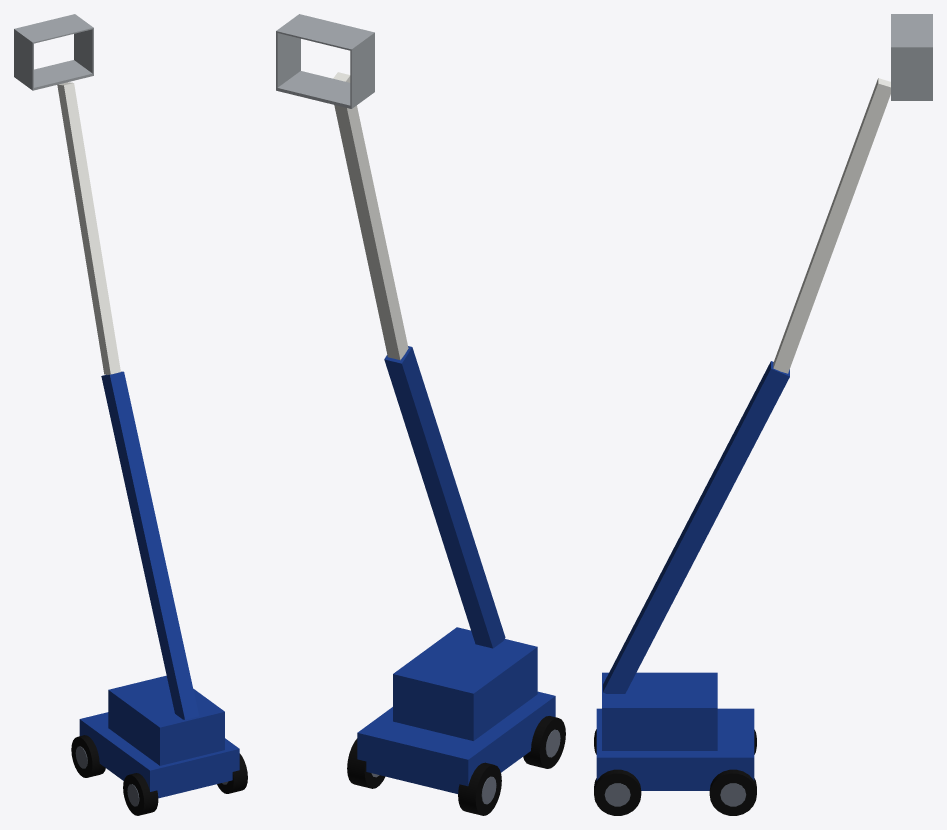
The model's file is plant.access.boom_lift_16.glb.
The picture shows the model from 3 angles, left to right: view 1: azimuth 30°, elevation 25°; view 2: azimuth 150°, elevation 25°; view 3: azimuth 270°, elevation 25°; orthographic projection. The views are drawn at different scales.
Visible parts, largest first — view 1: main__plastic_blue, main__paint_white, main__steel_galvanised, main__rubber, main__steel_painted; view 2: main__plastic_blue, main__steel_galvanised, main__paint_white, main__rubber, main__steel_painted; view 3: main__plastic_blue, main__paint_white, main__steel_galvanised, main__rubber, main__steel_painted.
Boxes of the visible parts, <box> form: main__plastic_blue: <box>79,371,239,798</box>; main__paint_white: <box>57,82,120,374</box>; main__steel_galvanised: <box>14,14,93,90</box>; main__rubber: <box>71,735,247,815</box>; main__steel_painted: <box>75,746,228,806</box>; main__plastic_blue: <box>357,346,555,793</box>; main__steel_galvanised: <box>276,14,374,108</box>; main__paint_white: <box>333,72,408,360</box>; main__rubber: <box>347,716,565,815</box>; main__steel_painted: <box>371,729,560,804</box>; main__plastic_blue: <box>596,361,789,790</box>; main__paint_white: <box>773,78,890,373</box>; main__steel_galvanised: <box>891,14,932,100</box>; main__rubber: <box>594,729,756,815</box>; main__steel_painted: <box>604,783,746,806</box>.
Bounding box in the file's own units: 2.57 × 15.9 × 6.45.
